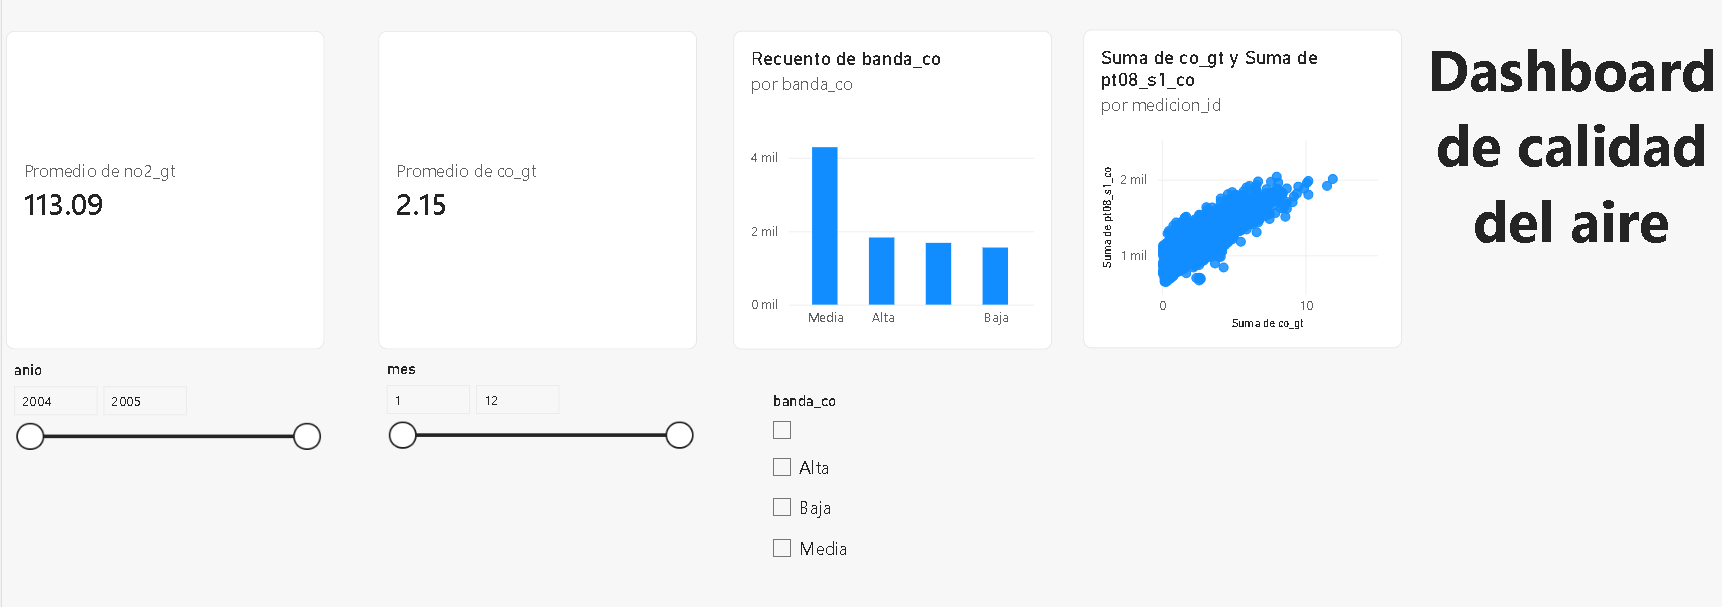

The page's visual inventory and layout, read from the dashboard file:
{"tool":"powerbi","page":{"name":"Página 1","canvas":[1920,1080],"ordinal":0},"visuals":[{"type":"cardVisual","fields":{"Data":["Avg(hecho_calidad_aire.co_gt)"]},"box":[425.1,120.9,300,300],"z":0},{"type":"cardVisual","fields":{"Data":["Avg(hecho_calidad_aire.no2_gt)"]},"box":[74.7,120.9,300,300],"z":1000},{"type":"clusteredColumnChart","fields":{"Category":["hecho_calidad_aire.banda_co"],"Y":["CountNonNull(hecho_calidad_aire.banda_co)"]},"box":[758.7,120.9,300,300],"z":2000},{"type":"scatterChart","fields":{"Category":["hecho_calidad_aire.medicion_id"],"X":["Sum(hecho_calidad_aire.co_gt)"],"Y":["Sum(hecho_calidad_aire.pt08_s1_co)"]},"box":[1088,120,300,300],"z":3000},{"type":"slicer","fields":{"Values":["dim_tiempo.anio"]},"box":[74,432,300,300],"z":4000},{"type":"slicer","fields":{"Values":["dim_tiempo.mes"]},"box":[425,431,300,300],"z":5000},{"type":"slicer","fields":{"Values":["hecho_calidad_aire.banda_co"]},"box":[788.2,461.2,300,300],"z":6000},{"type":"textbox","box":[1398,120,300,300],"z":7000}]}

Visuals, with their boxes on the page's 1920x1080 design canvas (x1, y1, x2, y2). These are canvas units, not pixel positions in the 1722x607 screenshot, which may show the page scaled, cropped or inside an application window:
cardVisual - Avg(hecho_calidad_aire.co_gt): x1=425 y1=121 x2=725 y2=421
cardVisual - Avg(hecho_calidad_aire.no2_gt): x1=75 y1=121 x2=375 y2=421
clusteredColumnChart - hecho_calidad_aire.banda_co x CountNonNull(hecho_calidad_aire.banda_co): x1=759 y1=121 x2=1059 y2=421
scatterChart - hecho_calidad_aire.medicion_id x Sum(hecho_calidad_aire.co_gt): x1=1088 y1=120 x2=1388 y2=420
slicer - dim_tiempo.anio: x1=74 y1=432 x2=374 y2=732
slicer - dim_tiempo.mes: x1=425 y1=431 x2=725 y2=731
slicer - hecho_calidad_aire.banda_co: x1=788 y1=461 x2=1088 y2=761
textbox: x1=1398 y1=120 x2=1698 y2=420
